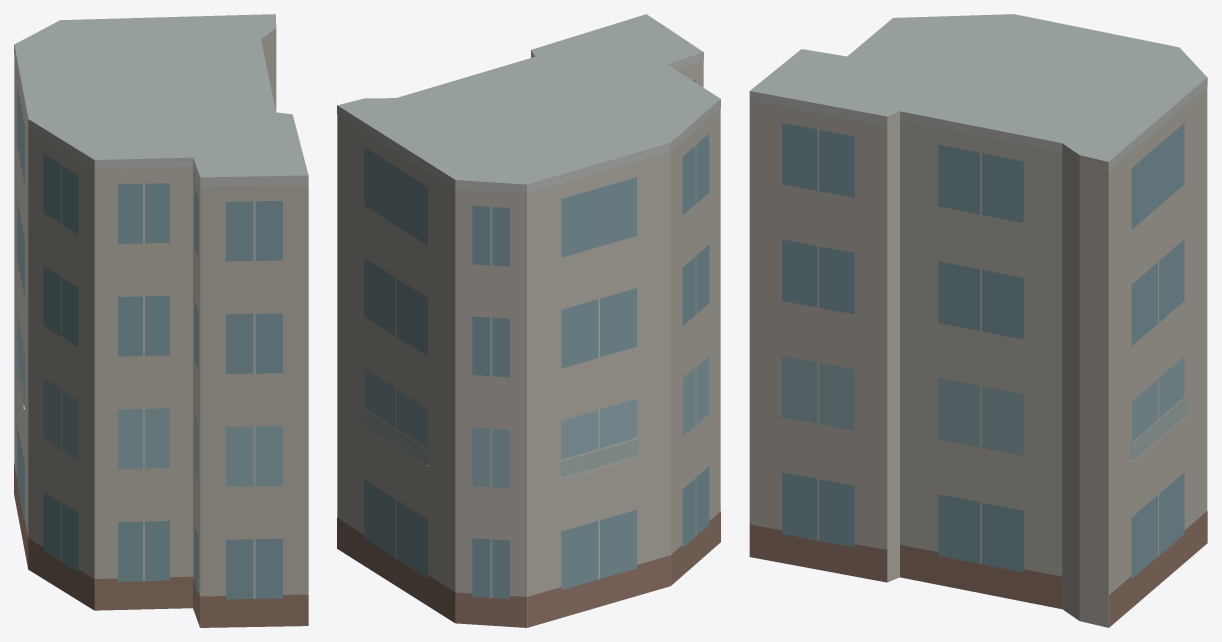
Rendered from survey-upis-32905675.glb.
3 renders of one model, left to right at view 1: azimuth 30°, elevation 25°; view 2: azimuth 150°, elevation 25°; view 3: azimuth 270°, elevation 25°, orthographic. The views are drawn at different scales.
Parts seen in each view (by area): view 1: survey-upis-32905675.tmp; view 2: survey-upis-32905675.tmp; view 3: survey-upis-32905675.tmp.
Part boxes in pixels (left/top/right/bottom): survey-upis-32905675.tmp: left=14, top=14, right=308, bottom=627; survey-upis-32905675.tmp: left=337, top=14, right=720, bottom=627; survey-upis-32905675.tmp: left=749, top=14, right=1207, bottom=627.
Size of the model in its own units: 8.25 by 12.1 by 10.78.
